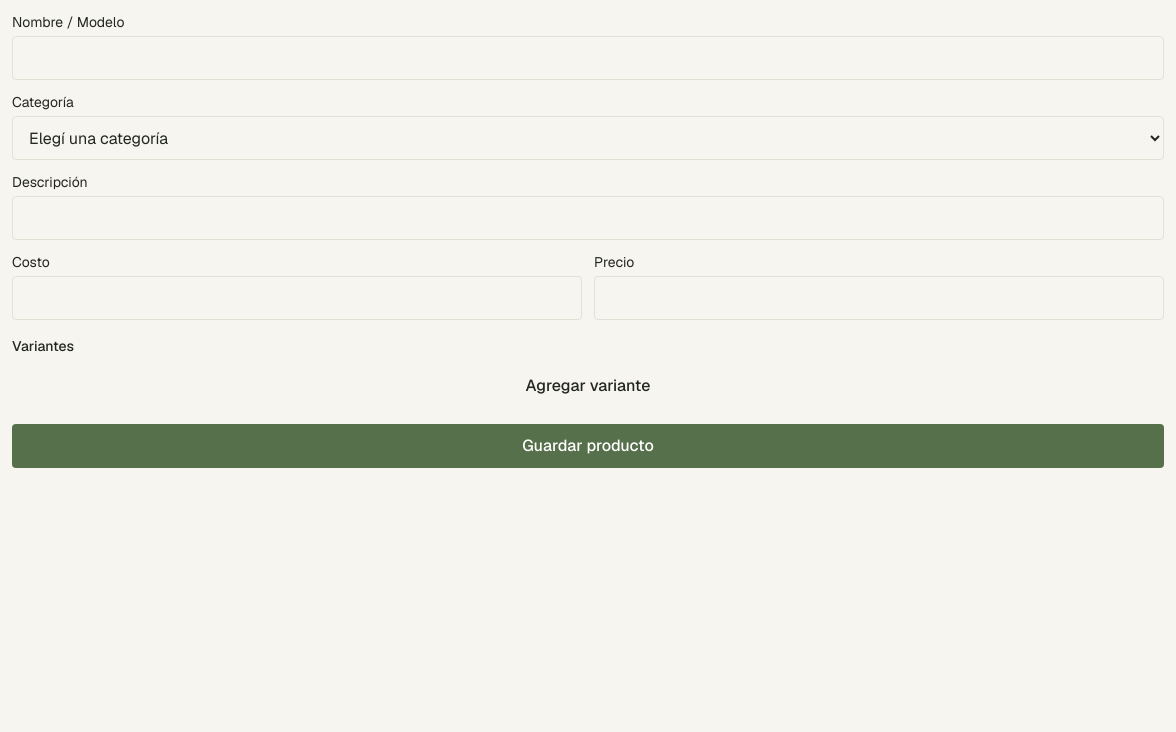
Test: ProductForm (create) › nueva fila de variante toma el costo/precio ya cargados en el producto
Step 1. Type "100" into the field labelled "Costo" → (297, 298), box [12,276,582,320]
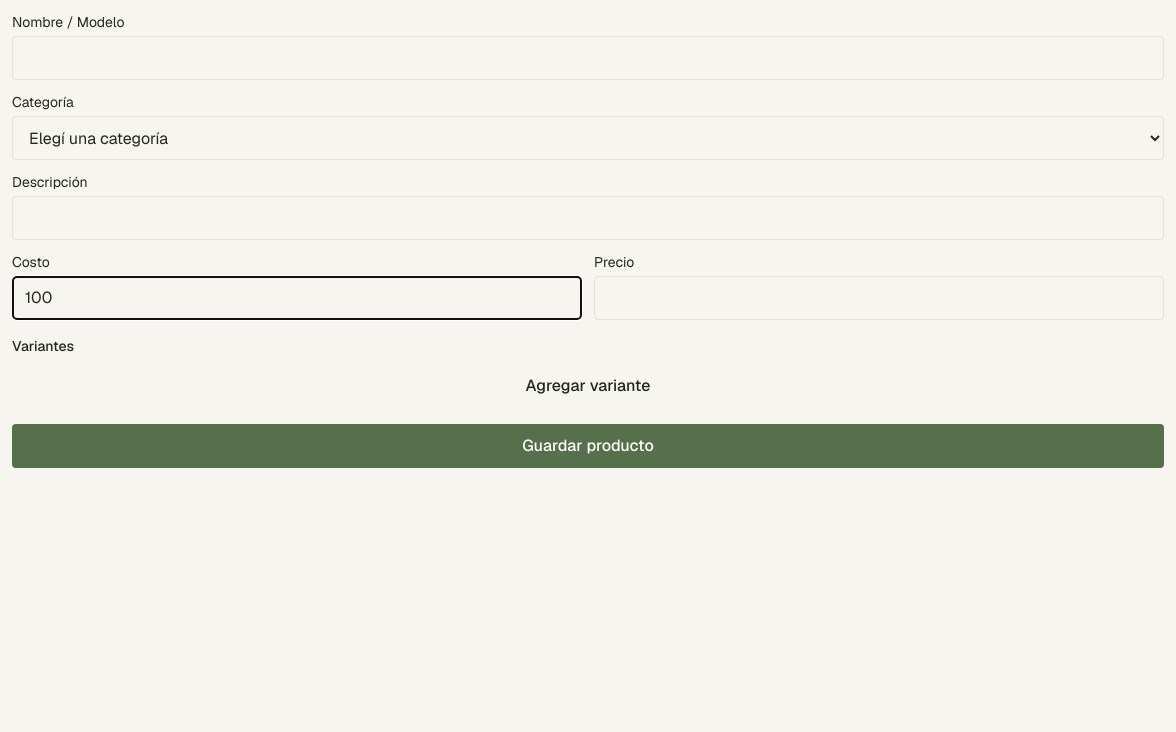
Step 2. Type "150" into the field labelled "Precio" → (879, 298), box [594,276,1164,320]
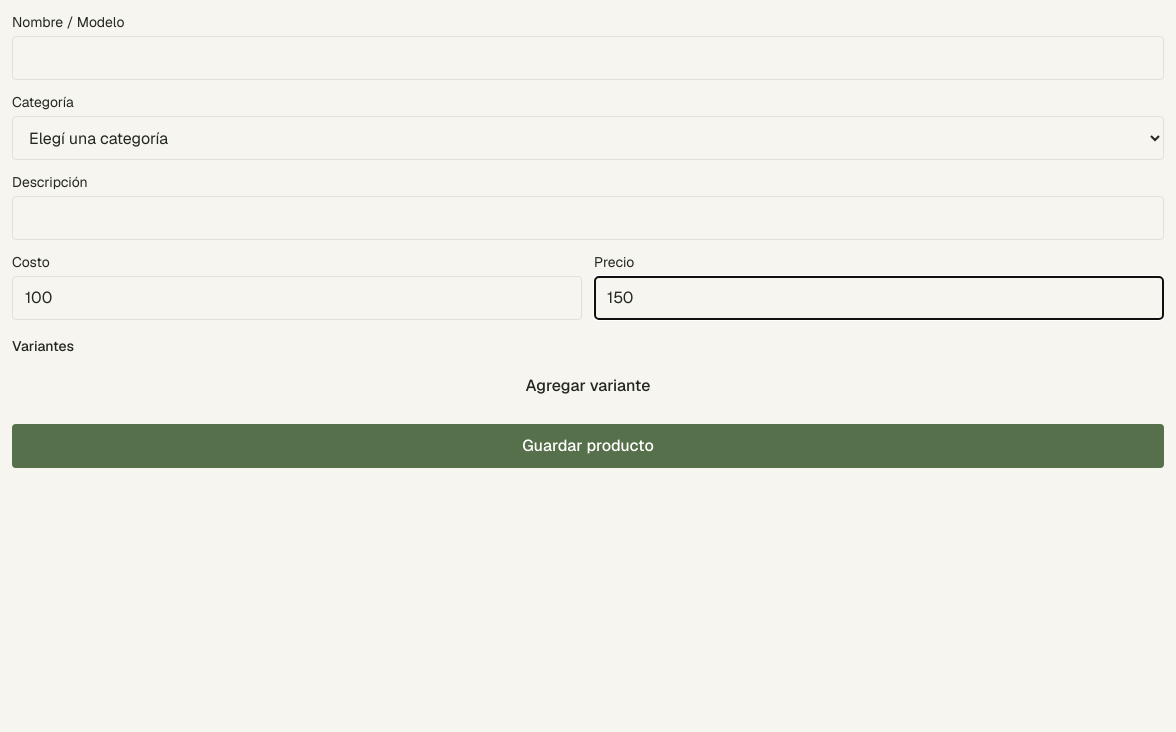
Step 3. Click the button "Agregar variante" → (588, 386), box [12,364,1164,408]
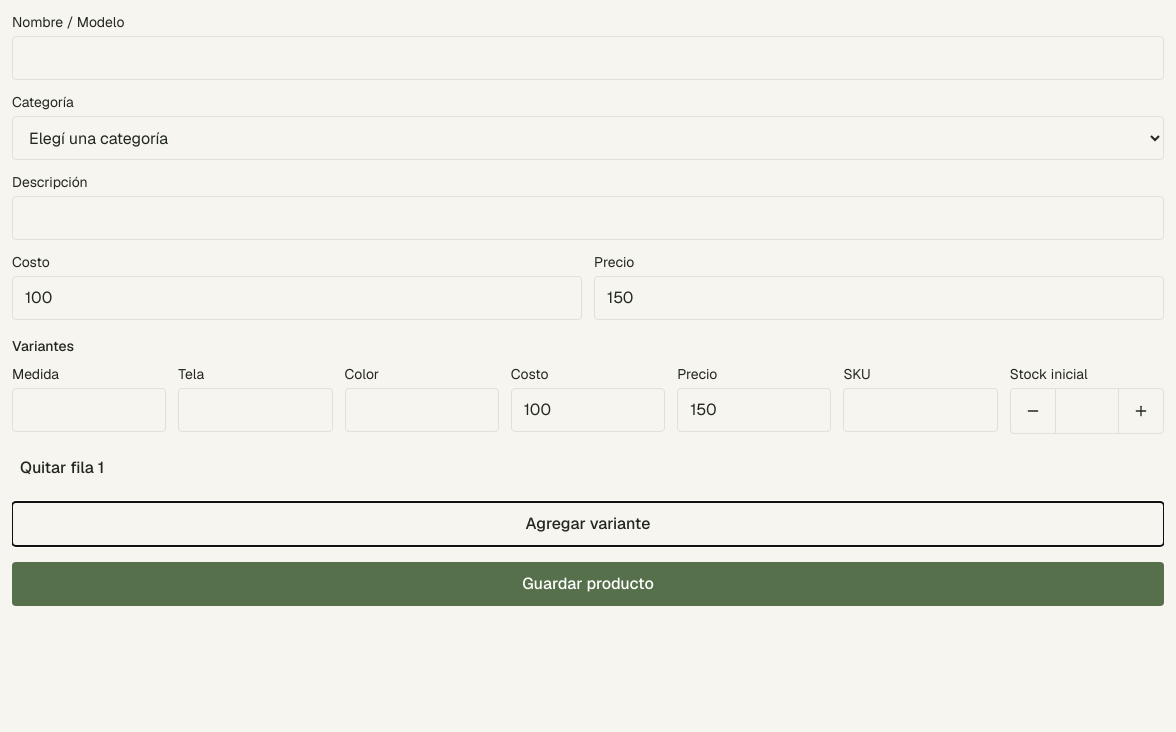
Now the field named "Costo (fila 1)" holds "100", box [511,388,665,432]
Now the field named "Precio (fila 1)" holds "150", box [677,388,831,432]
